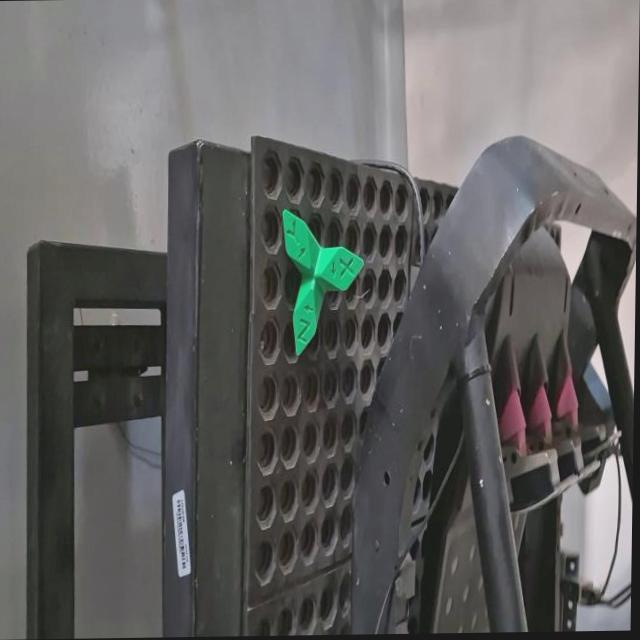eje: (279, 205, 365, 356)
